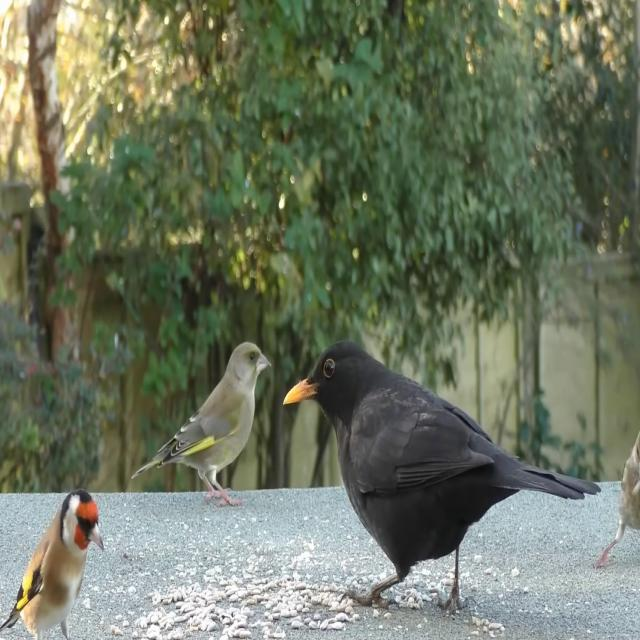beak: (280, 376, 318, 408), (89, 521, 104, 553), (256, 352, 271, 372)
bird: (282, 340, 605, 624), (128, 340, 272, 507), (0, 486, 107, 640), (598, 374, 640, 572)
